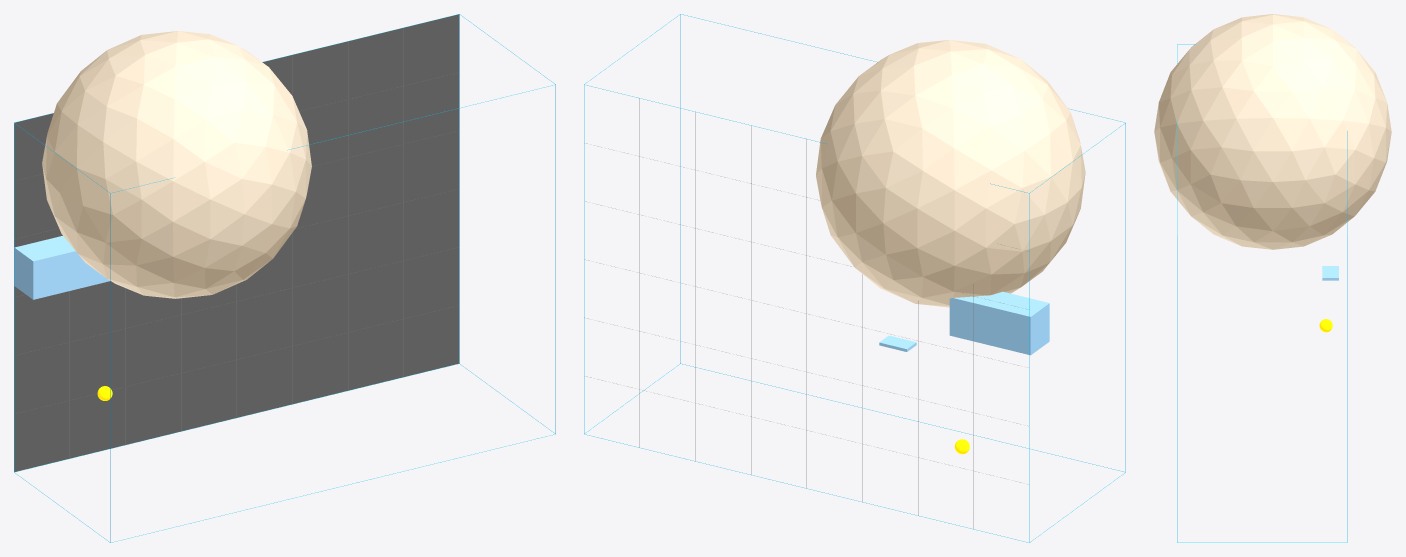
The model's file is comprehensive_hologram.glb.
The picture shows the model from 3 angles, left to right: view 1: azimuth 30°, elevation 25°; view 2: azimuth 150°, elevation 25°; view 3: azimuth 270°, elevation 25°; orthographic projection. The views are drawn at different scales.
Visible parts, largest first — view 1: ground_plane, smoke_plume, furniture_OBJ_002, room_wireframe, reference_grid; view 2: smoke_plume, furniture_OBJ_002, room_wireframe, reference_grid; view 3: smoke_plume, room_wireframe.
Part boxes in pixels (bbox=[...]): ground_plane: bbox=[14, 14, 459, 471]; smoke_plume: bbox=[42, 31, 311, 298]; furniture_OBJ_002: bbox=[14, 236, 109, 299]; room_wireframe: bbox=[14, 14, 555, 542]; reference_grid: bbox=[14, 28, 458, 458]; smoke_plume: bbox=[816, 40, 1085, 307]; furniture_OBJ_002: bbox=[949, 291, 1049, 355]; room_wireframe: bbox=[584, 14, 1125, 542]; reference_grid: bbox=[584, 98, 1028, 528]; smoke_plume: bbox=[1154, 14, 1391, 249]; room_wireframe: bbox=[1177, 44, 1347, 542].
Bounding box in the file's own units: 8.01 × 7.4 × 4.2.
